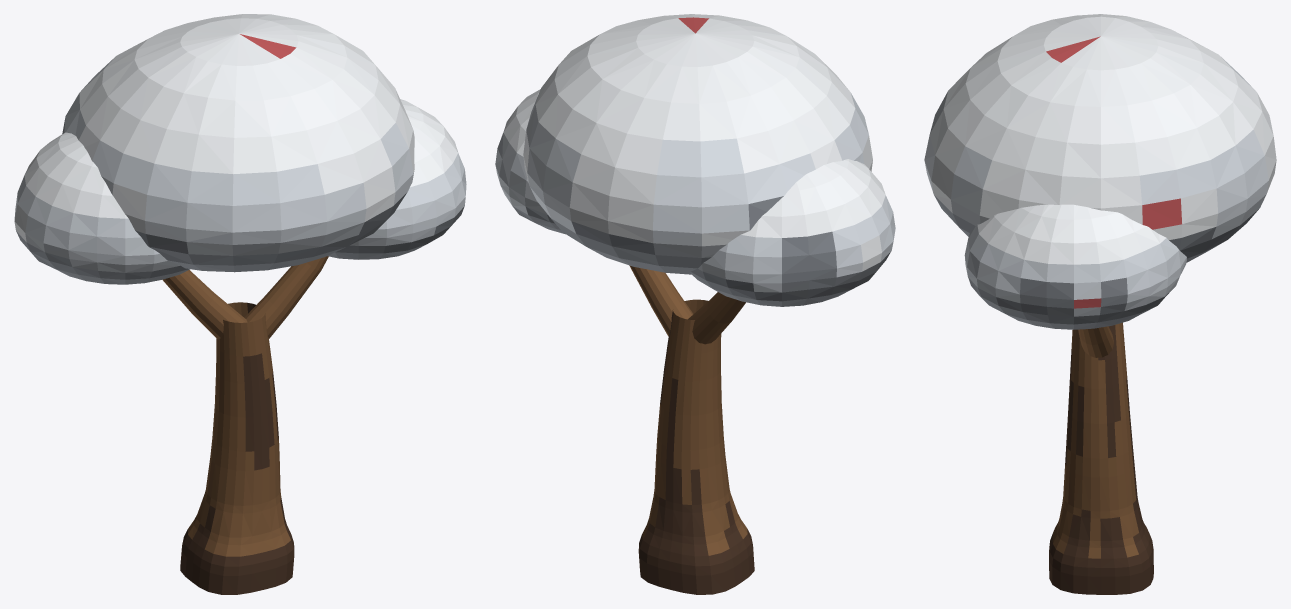
The model's file is MeadowTree.obj.
The picture shows the model from 3 angles, left to right: view 1: azimuth 30°, elevation 25°; view 2: azimuth 150°, elevation 25°; view 3: azimuth 270°, elevation 25°; orthographic projection.
Size of the model in its own units: 6.76 by 8.7 by 5.17.
